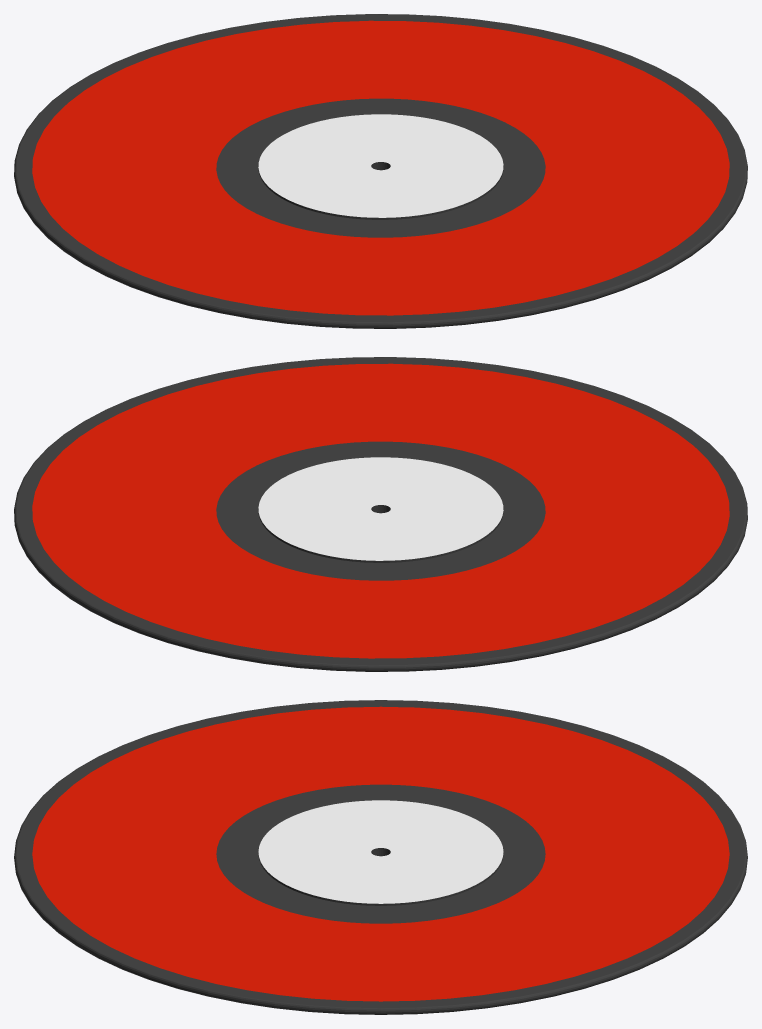
The model's file is vinyl.glb.
3 views of the same model, one above another, from view 1: azimuth 30°, elevation 25°; view 2: azimuth 150°, elevation 25°; view 3: azimuth 270°, elevation 25° (orthographic).
Parts seen in each view (by area): view 1: Vinyl; view 2: Vinyl; view 3: Vinyl.
Boxes of the visible parts, <box> form: Vinyl: <box>14,14,747,328</box>; Vinyl: <box>14,357,747,671</box>; Vinyl: <box>14,700,747,1014</box>.
Bounding box in the file's own units: 30.48 × 0.4953 × 30.48.
